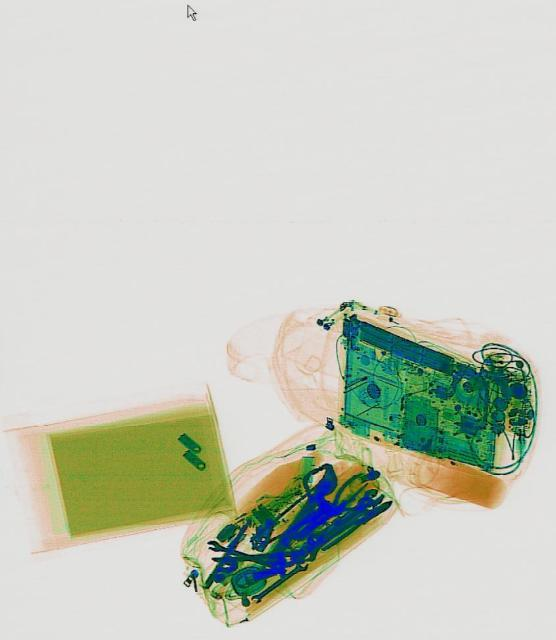Pliers: (307, 468, 379, 534)
Wrench: (246, 556, 308, 606), (204, 538, 280, 572)
